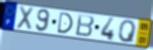4: (100, 17, 116, 41)
9: (35, 9, 51, 33)
B: (75, 13, 96, 39)
D: (56, 12, 74, 35)
Q: (118, 20, 138, 44)
X: (15, 5, 35, 32)
